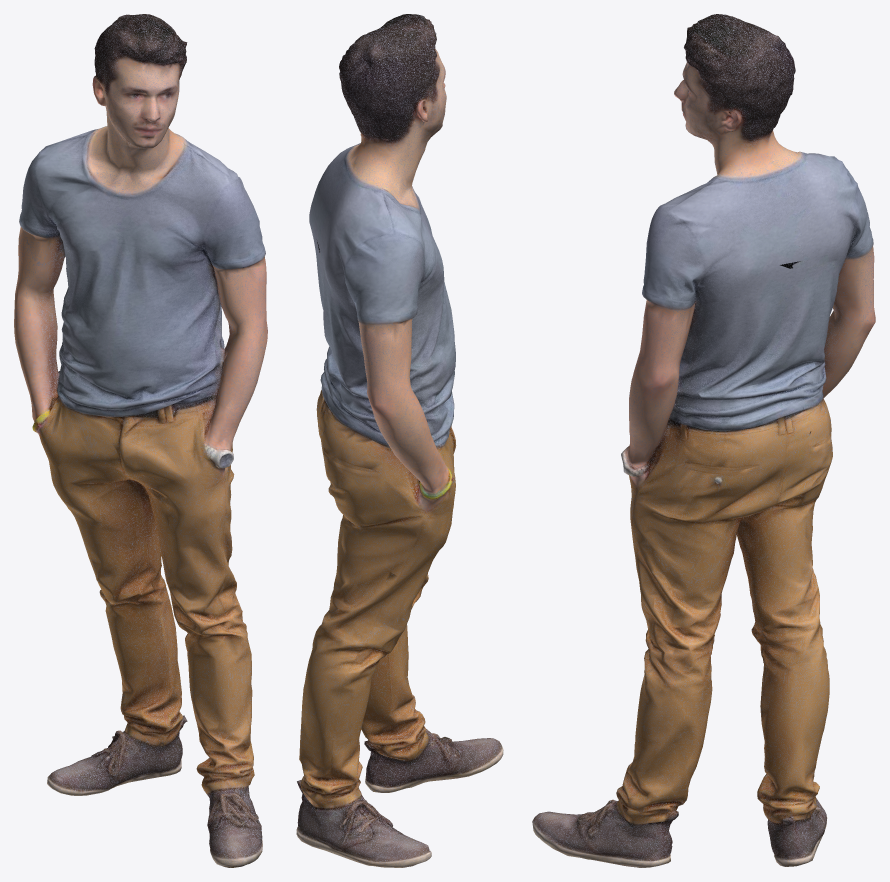
The picture shows the model from 3 angles, left to right: view 1: azimuth 30°, elevation 25°; view 2: azimuth 150°, elevation 25°; view 3: azimuth 270°, elevation 25°; orthographic projection. The views are drawn at different scales.
Parts seen in each view (by area): view 1: SketchUp; view 2: SketchUp; view 3: SketchUp.
Boxes of the visible parts, x1,y1,x2,y2 form: SketchUp: (14, 14, 267, 867); SketchUp: (296, 14, 503, 867); SketchUp: (532, 14, 875, 867).
Size of the model in its own units: 15.94 by 26.42 by 69.42.
2 materials, 1 textured.
